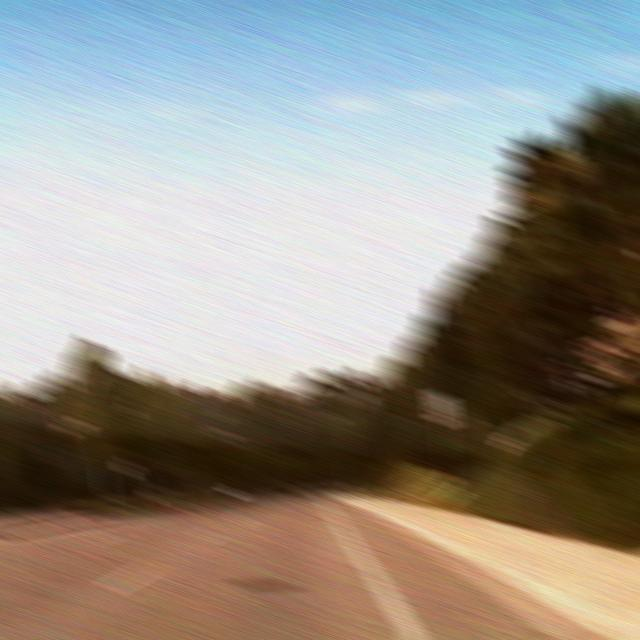speedLimit45: (426, 390, 456, 426)
